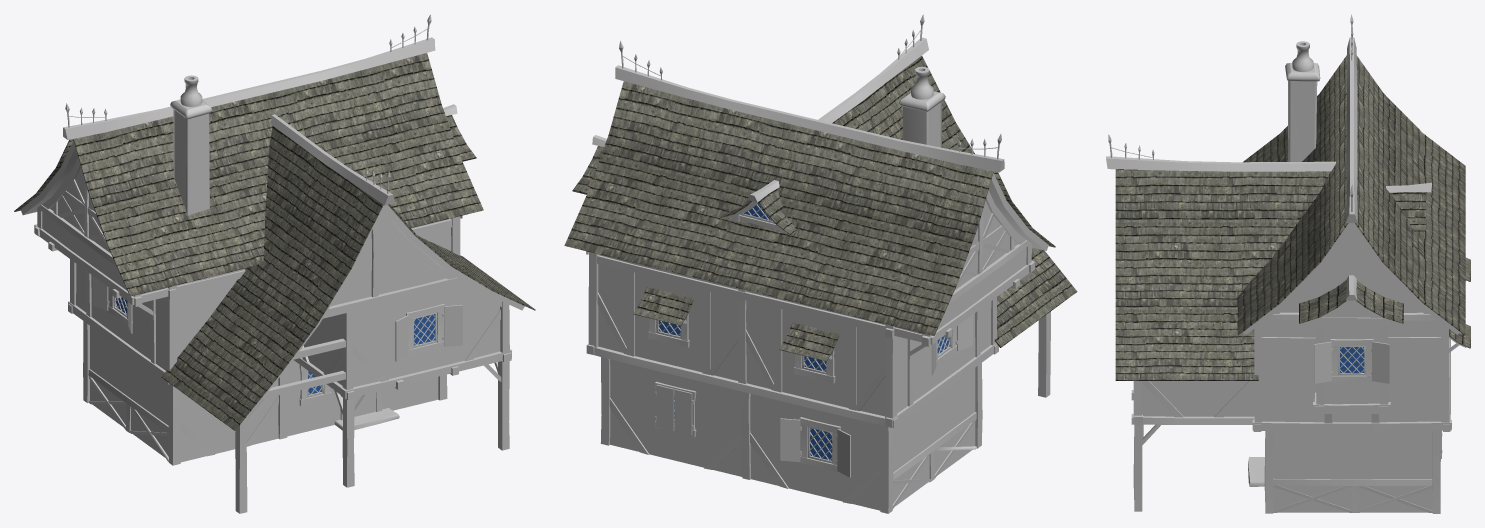
Rendered from mw_type_1_cottage_04.FBX.
The picture shows the model from 3 angles, left to right: view 1: azimuth 30°, elevation 25°; view 2: azimuth 150°, elevation 25°; view 3: azimuth 270°, elevation 25°; orthographic projection. The views are drawn at different scales.
Visible parts, largest first — view 1: mw_type_1_cottage_04_roof, mw_type_1_cottage_04_wood, mw_type_1_cottage_04_stone, mw_type_1_cottage_04; view 2: mw_type_1_cottage_04_roof, mw_type_1_cottage_04_stone, mw_type_1_cottage_04_wood, mw_type_1_cottage_04; view 3: mw_type_1_cottage_04_roof, mw_type_1_cottage_04_stone, mw_type_1_cottage_04_wood, mw_type_1_cottage_04.
Part boxes in pixels (<box>): mw_type_1_cottage_04_roof: <box>14,53,535,430</box>; mw_type_1_cottage_04_wood: <box>20,37,524,513</box>; mw_type_1_cottage_04_stone: <box>76,75,500,462</box>; mw_type_1_cottage_04: <box>65,14,462,416</box>; mw_type_1_cottage_04_roof: <box>564,56,1077,361</box>; mw_type_1_cottage_04_stone: <box>598,66,991,510</box>; mw_type_1_cottage_04_wood: <box>586,37,1050,513</box>; mw_type_1_cottage_04: <box>586,14,1001,477</box>; mw_type_1_cottage_04_roof: <box>1115,55,1470,380</box>; mw_type_1_cottage_04_stone: <box>1142,41,1441,512</box>; mw_type_1_cottage_04_wood: <box>1106,37,1466,513</box>; mw_type_1_cottage_04: <box>1108,14,1442,458</box>.
Size of the model in its own units: 1614 by 1438 by 1332.
